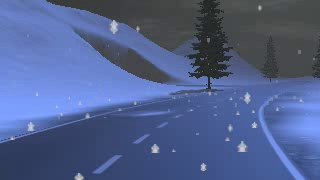Lane: (1, 85, 301, 179)
